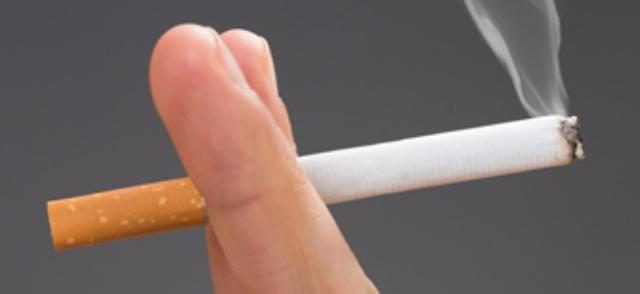Cigarette: (44, 114, 588, 254)
